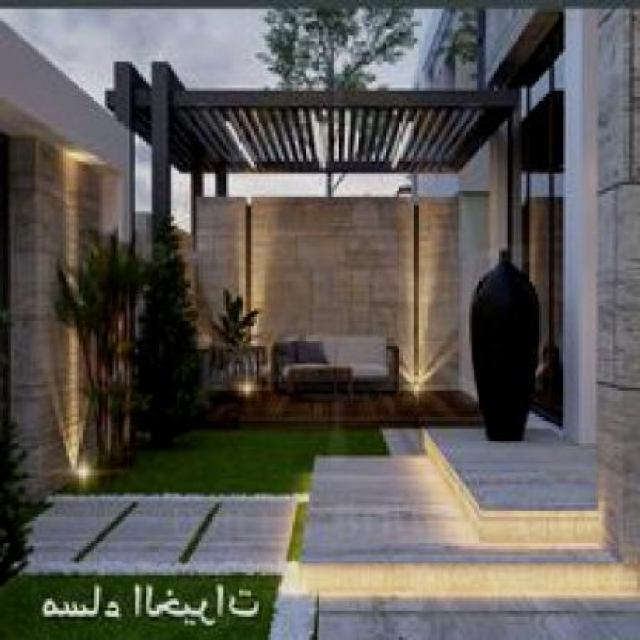stair: (267, 419, 582, 606)
